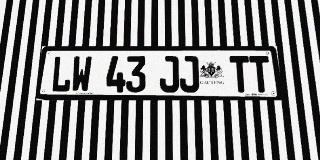3: (126, 56, 146, 92)
4: (106, 56, 126, 92)
J: (179, 56, 199, 92), (160, 56, 179, 92)
L: (50, 56, 73, 92)
T: (249, 56, 272, 92), (229, 56, 251, 92)
W: (71, 56, 92, 92)
